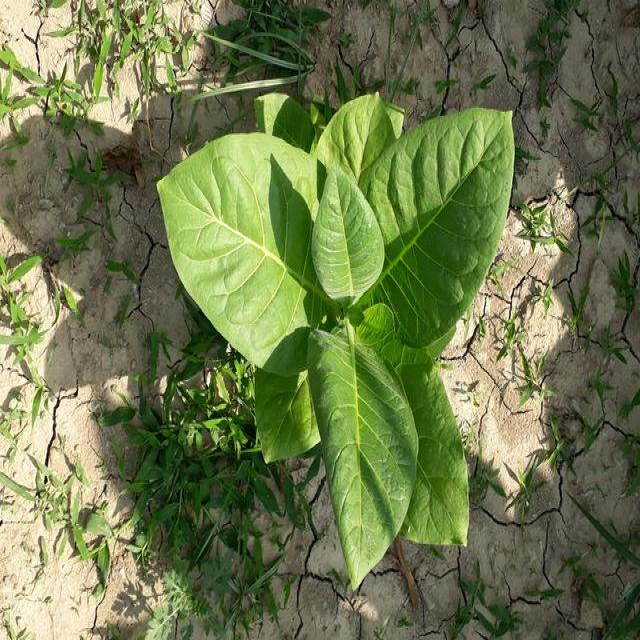crop: (151, 76, 519, 594)
